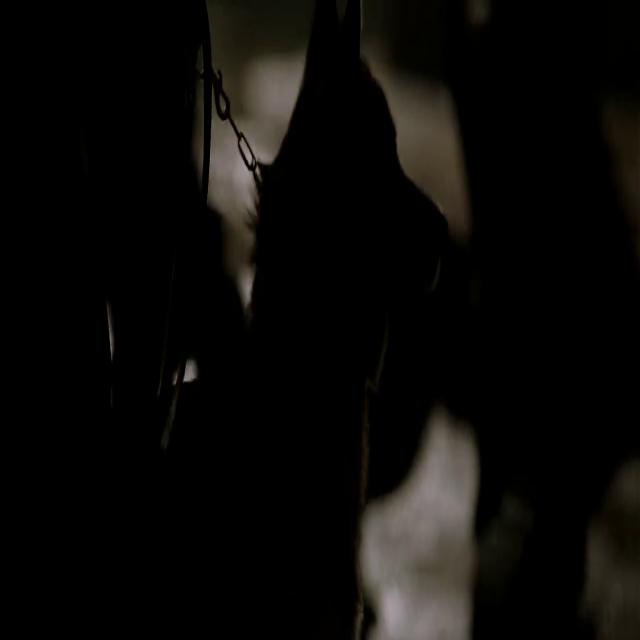dog: (227, 20, 457, 640)
